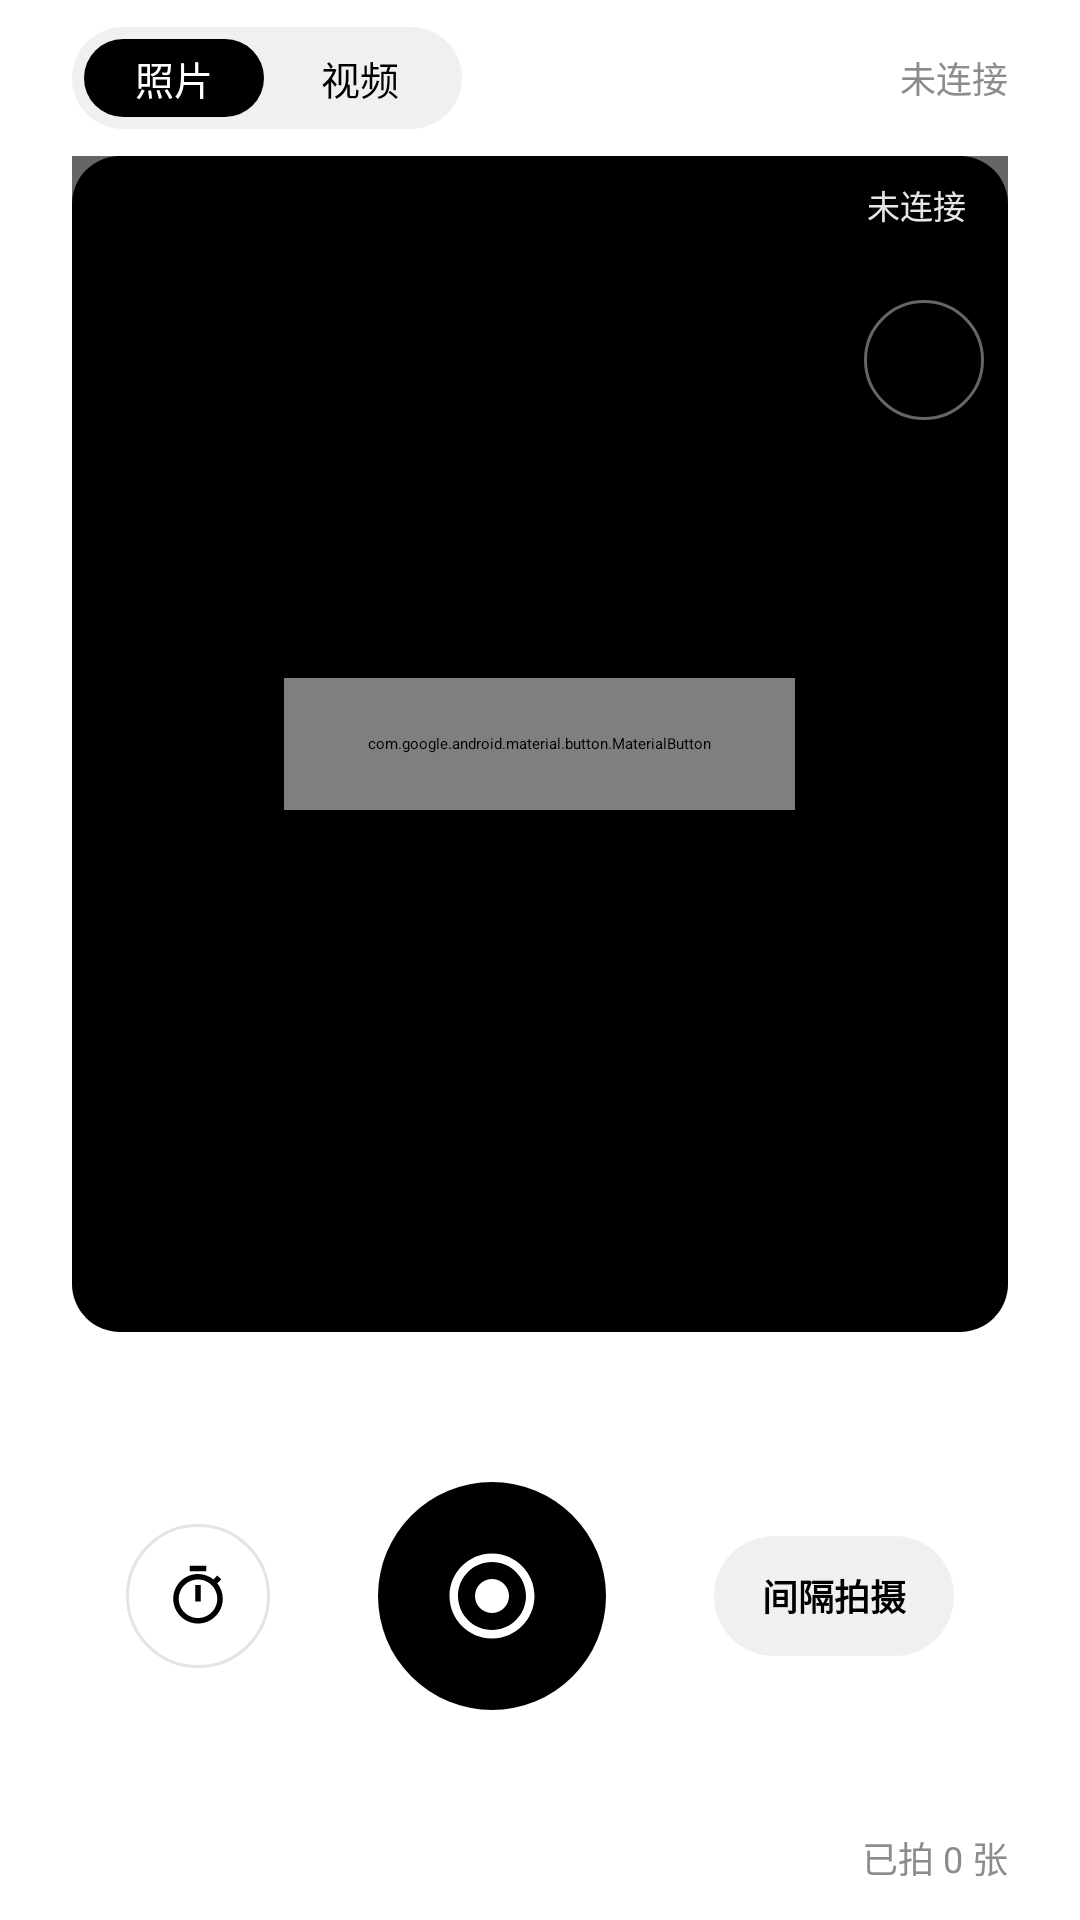

Icon click points for this 1080px×1920px phone screenshot, format (x=x, y=y):
定时拍摄: (x=198, y=1594)
快门: (x=492, y=1596)
